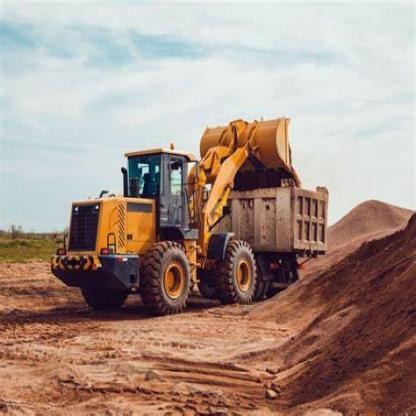bull_dozer/loader/grader: (39, 102, 296, 317)
